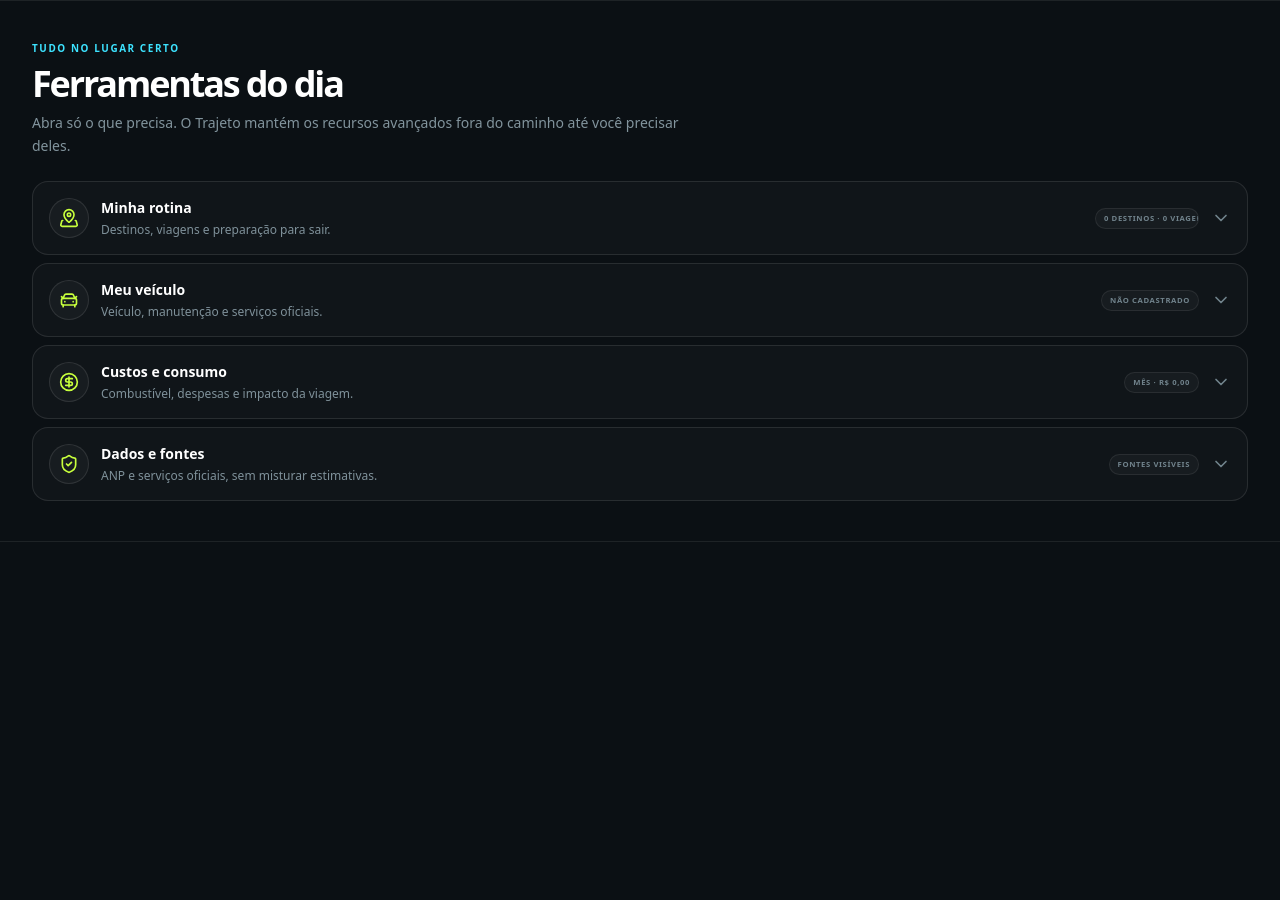
Scenario: MobileUtilityHub › prioriza a rotina e permite abrir outro contexto
Click the button "Minha rotina". click: x=69, y=218
box: [33,182,1247,254]
(page scrolled)
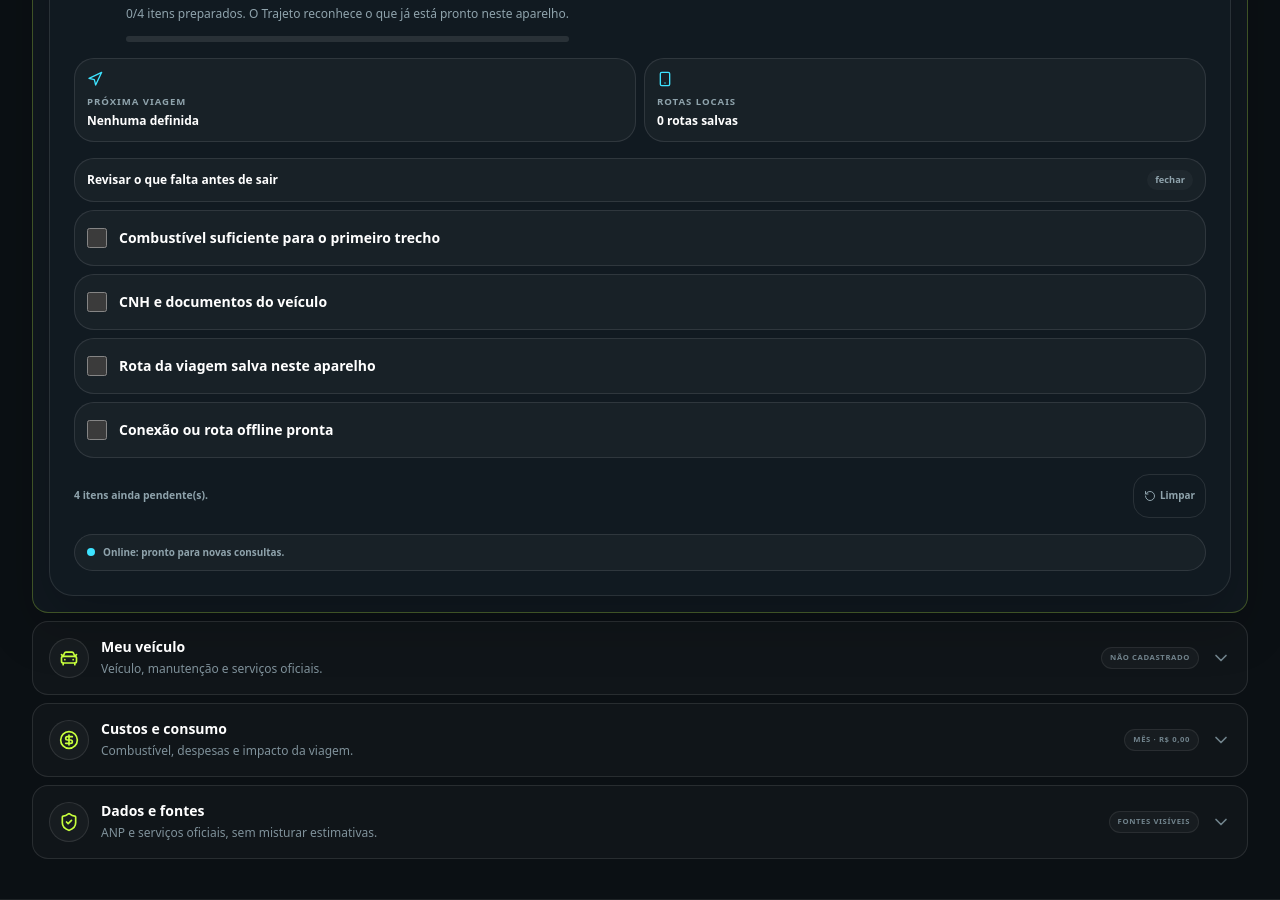
Click the button "Meu veículo". click: x=69, y=658
box: [33,622,1247,694]
(page scrolled)
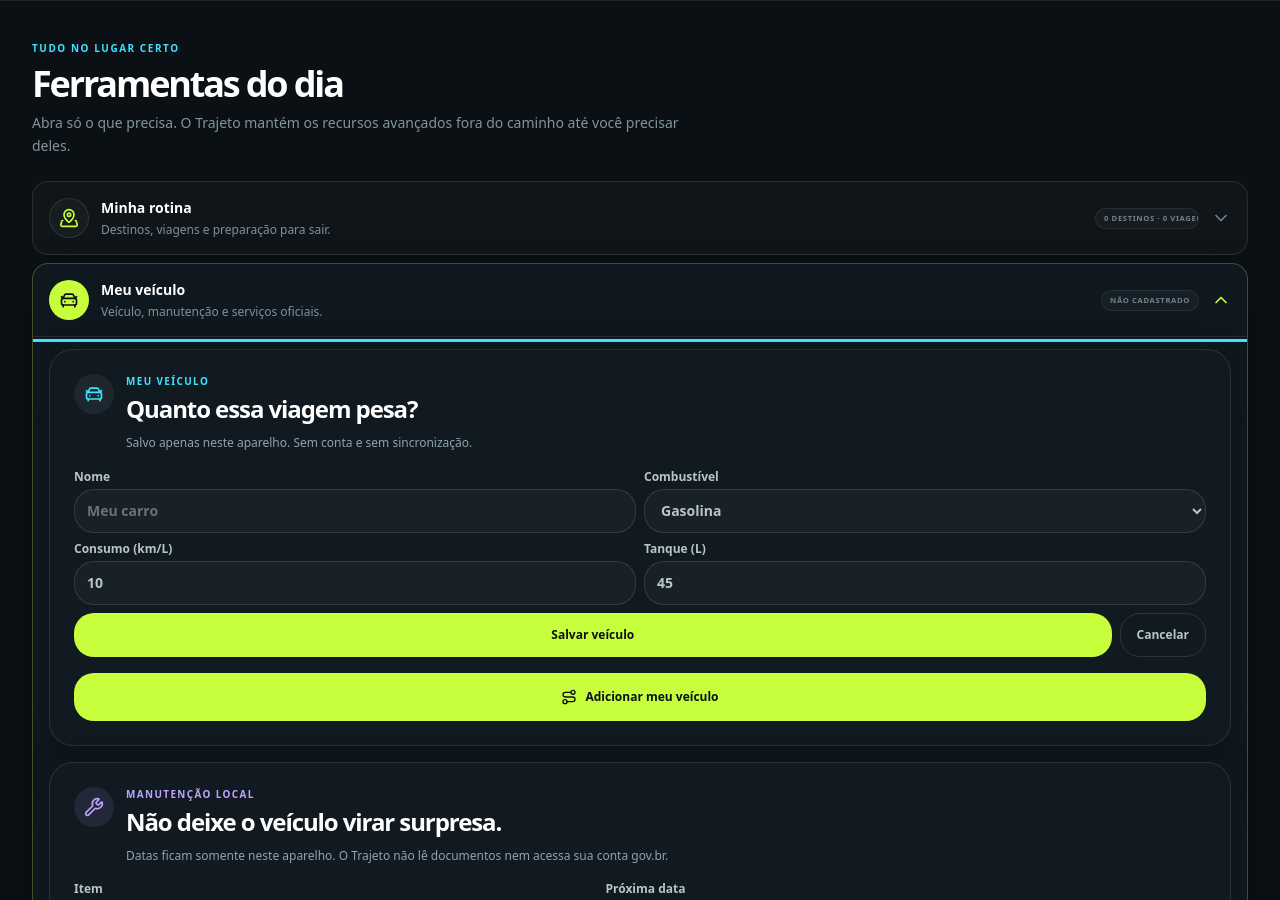
Expected: the button "Meu veículo" is expanded
Expected: the heading "Não deixe o veículo virar surpresa." is shown, [126,805,501,838]
Click the button "Meu veículo". click: x=69, y=300
box: [33,264,1247,336]
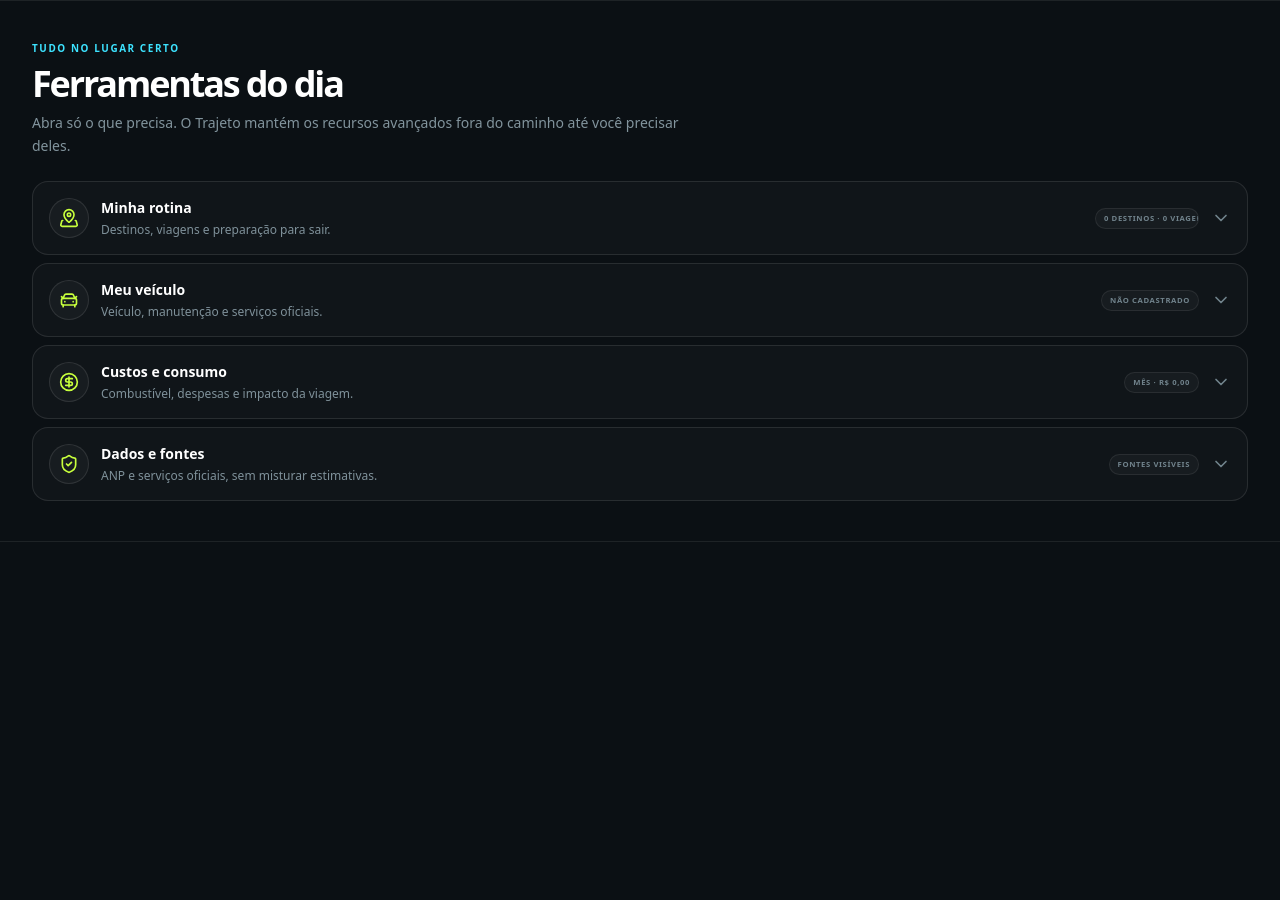
Expected: the button "Meu veículo" is collapsed, [33,264,1247,336]
Expected: the heading "Não deixe o veículo virar surpresa." is gone
